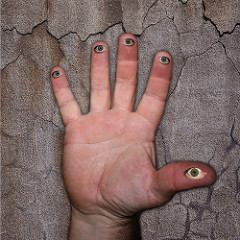palm: (61, 112, 162, 204)
